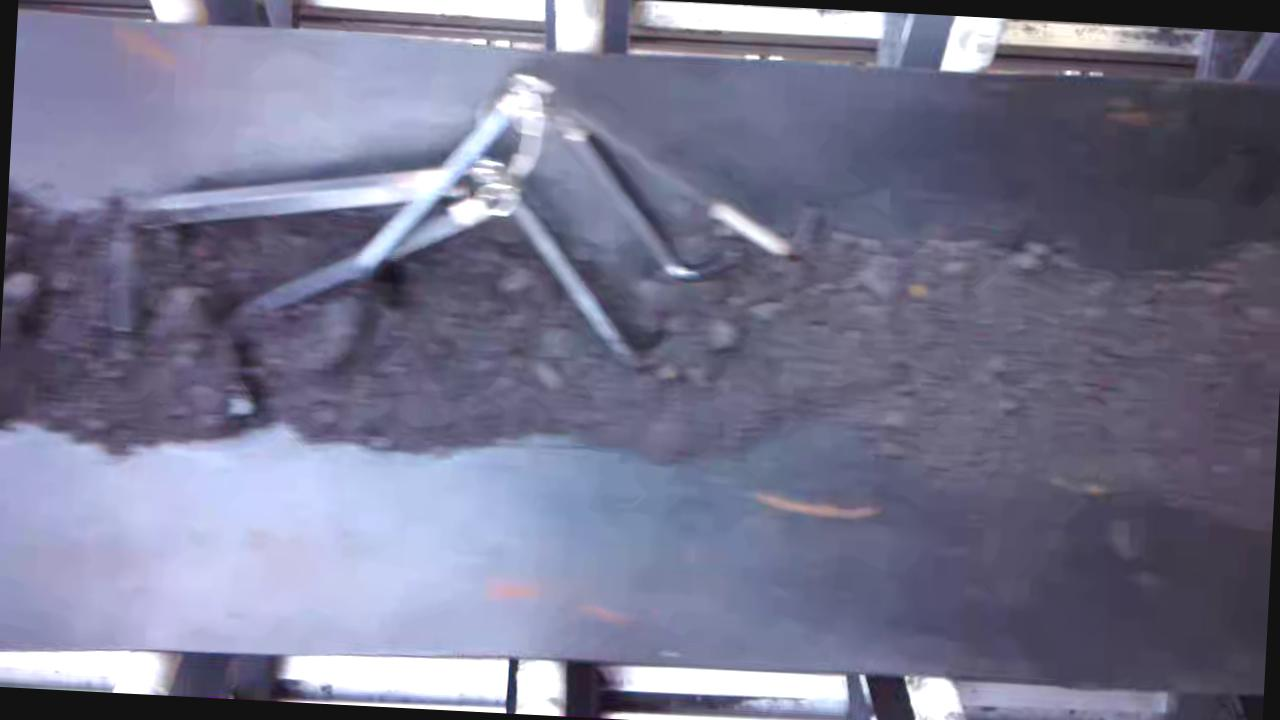conveyor: (0, 24, 1280, 688)
